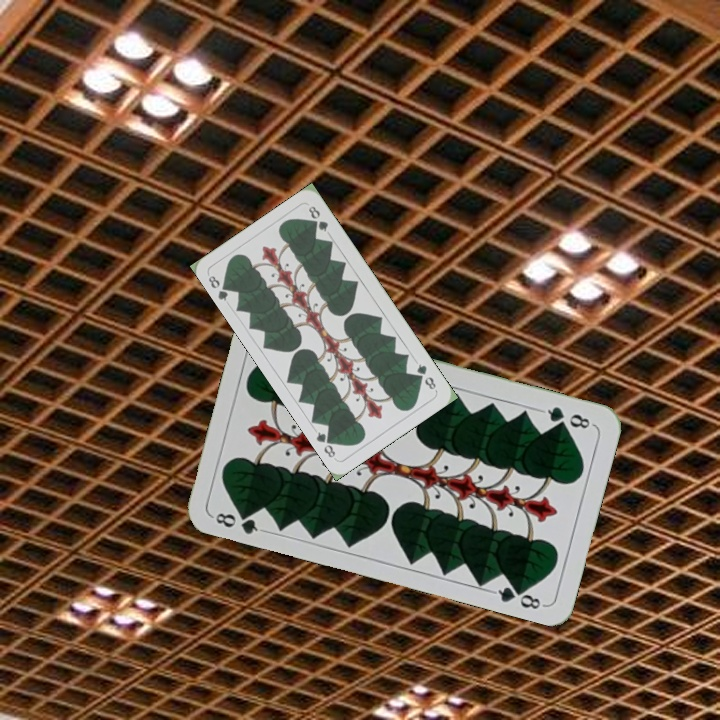G8: (209, 505, 267, 537), (538, 402, 596, 433), (204, 271, 234, 304), (412, 359, 439, 392)
